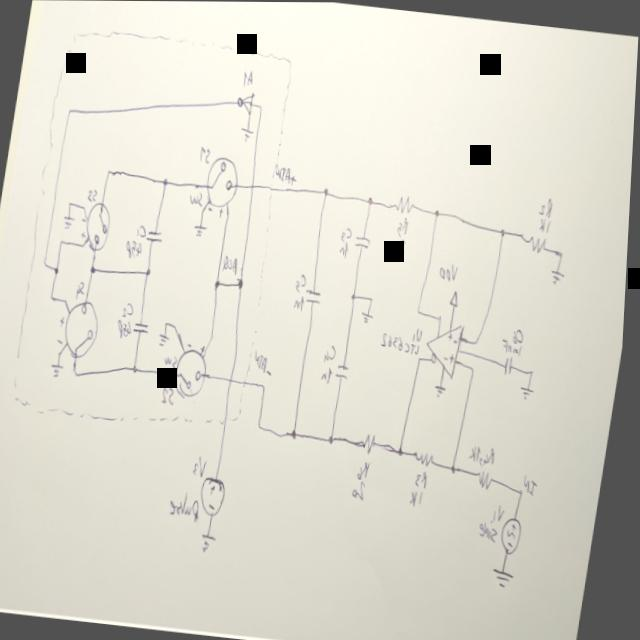capacitor: (305, 286, 325, 306), (148, 227, 166, 244), (355, 233, 373, 250), (135, 318, 154, 334), (338, 362, 354, 380), (506, 355, 518, 375)
crossover: (231, 373, 238, 384), (251, 181, 258, 190)
ground: (496, 566, 522, 589), (203, 530, 223, 554), (522, 383, 540, 400), (552, 267, 569, 285), (52, 361, 69, 378), (240, 125, 256, 142), (363, 309, 379, 324), (64, 213, 78, 230), (195, 222, 210, 237), (161, 332, 176, 347), (437, 383, 451, 398)
junction: (400, 443, 410, 457), (331, 431, 340, 444), (240, 275, 248, 289), (295, 426, 303, 439), (454, 461, 462, 474), (164, 174, 171, 188), (217, 276, 224, 289), (68, 103, 75, 116), (135, 363, 143, 374), (92, 263, 100, 274), (107, 165, 115, 176), (418, 304, 426, 315), (264, 380, 272, 391), (44, 256, 52, 267), (76, 367, 84, 378), (353, 291, 361, 301), (560, 248, 568, 258), (369, 194, 376, 205), (325, 185, 332, 196), (502, 225, 509, 236), (436, 206, 443, 217), (148, 265, 155, 276), (56, 263, 63, 274), (260, 420, 267, 431), (477, 335, 484, 346), (473, 363, 480, 374), (69, 198, 76, 208), (52, 292, 59, 301), (59, 350, 66, 358), (523, 487, 529, 496), (61, 236, 67, 245), (421, 353, 427, 362), (440, 311, 446, 320), (260, 101, 265, 110), (372, 295, 378, 302), (213, 332, 219, 339), (66, 296, 71, 304), (83, 241, 88, 249), (533, 368, 539, 374), (167, 320, 173, 326), (202, 208, 208, 214), (176, 322, 181, 329), (84, 205, 89, 211), (228, 211, 233, 217)
resistor: (521, 231, 550, 253), (393, 191, 418, 215), (480, 466, 501, 491), (417, 447, 441, 466), (364, 429, 383, 453)
source: (202, 475, 233, 517), (504, 515, 529, 555), (451, 288, 464, 307)
switch: (61, 296, 107, 360), (204, 153, 246, 213), (176, 342, 215, 399), (80, 199, 117, 254)
text: (172, 488, 208, 522), (383, 330, 426, 355), (254, 349, 278, 377), (275, 162, 300, 184), (482, 520, 505, 542), (484, 442, 503, 467), (126, 238, 147, 260), (503, 337, 527, 356), (441, 261, 461, 283), (527, 472, 545, 495), (119, 317, 137, 340), (540, 194, 557, 217), (356, 478, 373, 501), (197, 453, 213, 477), (224, 253, 243, 273), (398, 215, 413, 238), (164, 385, 181, 405), (327, 342, 342, 364), (362, 457, 376, 480), (495, 502, 511, 522), (200, 144, 214, 165), (77, 279, 90, 301), (297, 272, 310, 294), (419, 468, 434, 487), (414, 488, 429, 507), (472, 443, 487, 462), (324, 364, 338, 384), (125, 299, 139, 318), (515, 326, 529, 345), (242, 68, 256, 87), (395, 237, 410, 254), (295, 293, 308, 312), (190, 190, 206, 205), (342, 225, 356, 242), (541, 215, 554, 233), (341, 240, 353, 259), (167, 354, 182, 369), (137, 222, 150, 238), (88, 187, 101, 203), (415, 325, 427, 342), (81, 229, 91, 240), (62, 313, 69, 328), (189, 339, 196, 354), (451, 351, 458, 363), (220, 207, 227, 217), (60, 336, 67, 346), (210, 203, 217, 212), (446, 353, 454, 360), (84, 216, 90, 224), (204, 345, 209, 354), (457, 336, 462, 344), (452, 331, 457, 337)
